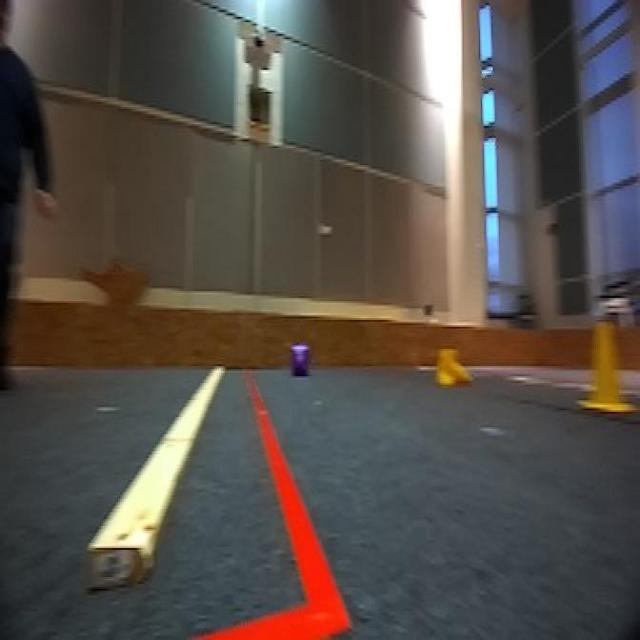frc_cone: (586, 312, 636, 418), (436, 346, 472, 386)
frc_cube: (290, 342, 310, 373)
